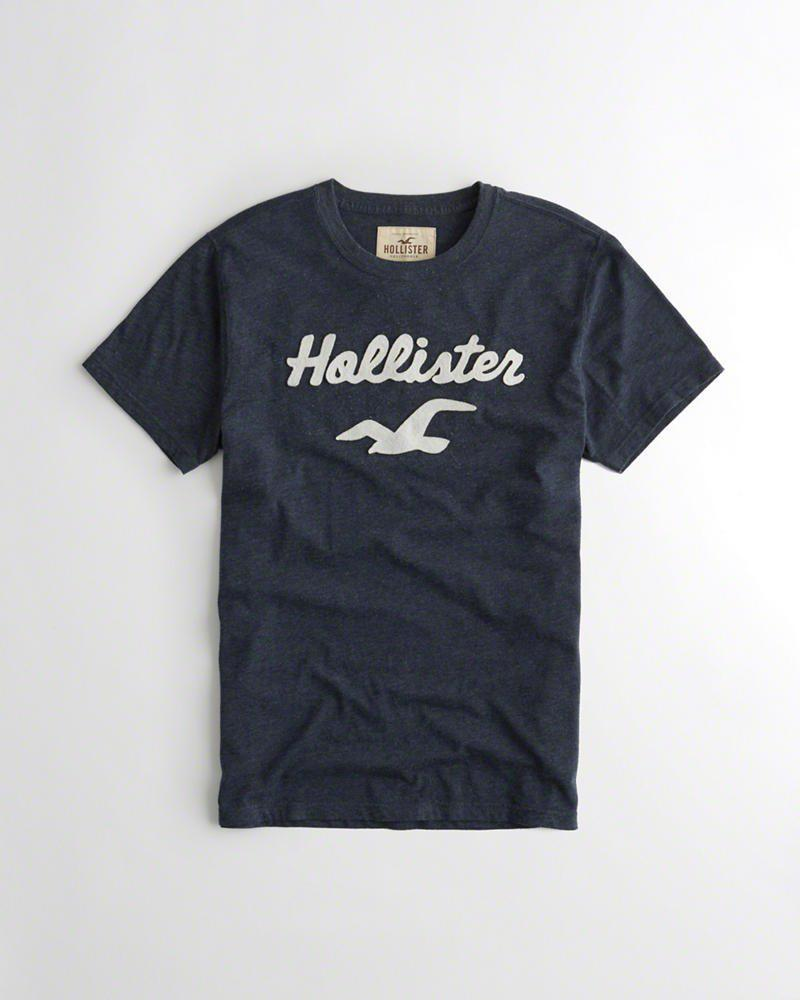teeshirt: (45, 177, 745, 877)
